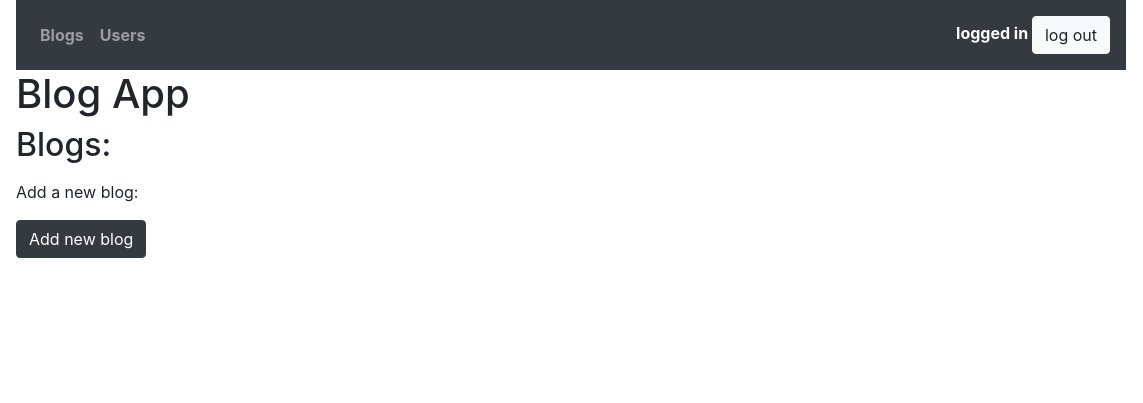
Test: Blog app › When logged in › A blog can be created
This screenshot has width=1143, height=403.
Click the button "Add new blog" at (81, 239), box top-left (16, 220), bottom-right (146, 258)
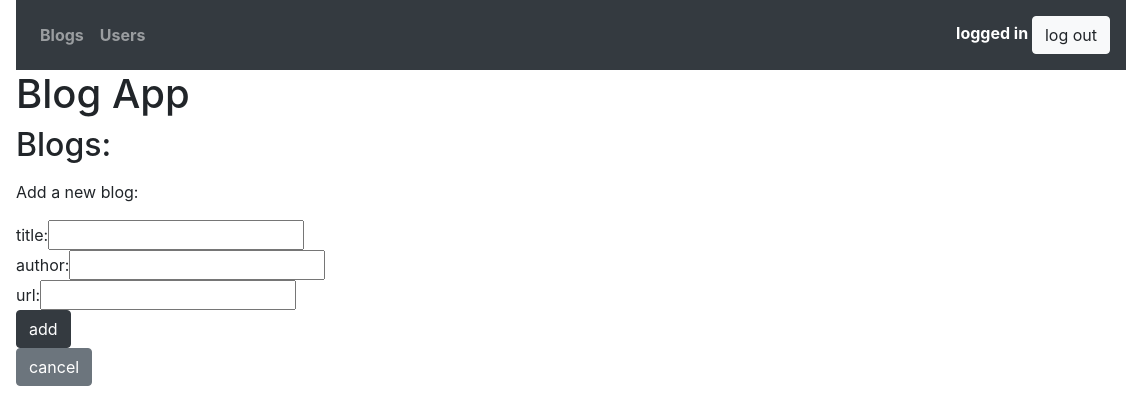
Type "title1" into the field with id "title" at (176, 235), box top-left (48, 220), bottom-right (304, 250)
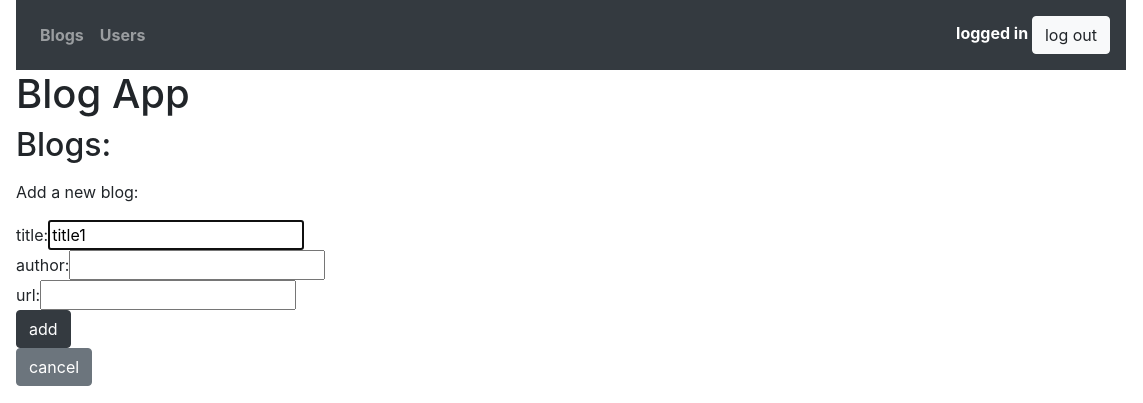
Type "author1" into the field with id "author" at (197, 265), box top-left (69, 250), bottom-right (325, 280)
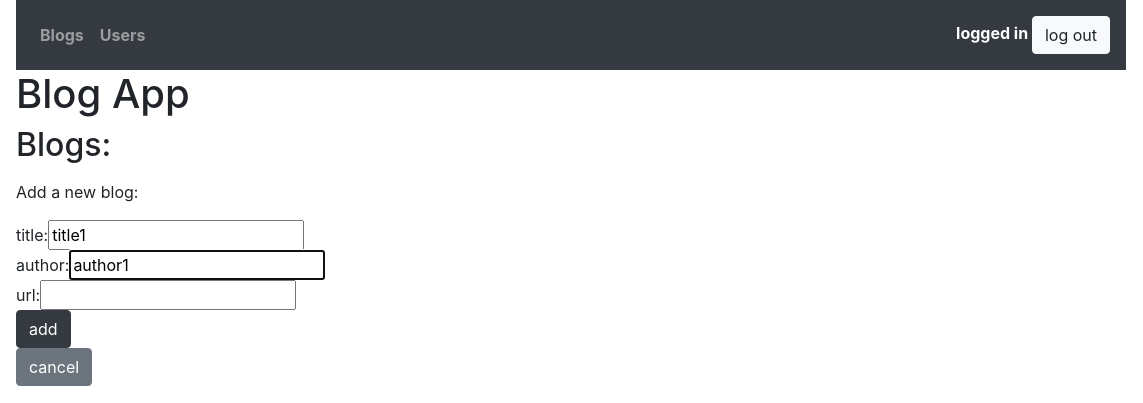
Type "url1" into the field with id "url" at (168, 295), box top-left (40, 280), bottom-right (296, 310)
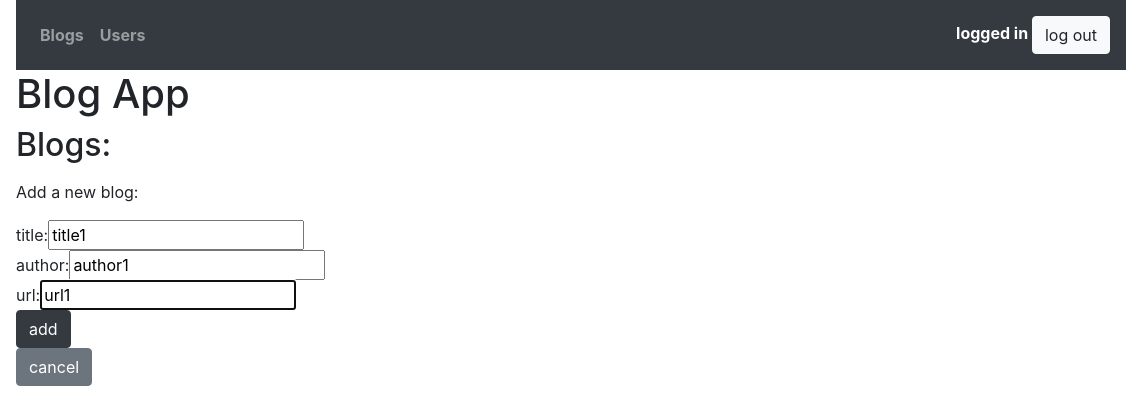
Click the button with id "buttonAddBlog" at (44, 329), box top-left (16, 310), bottom-right (71, 348)
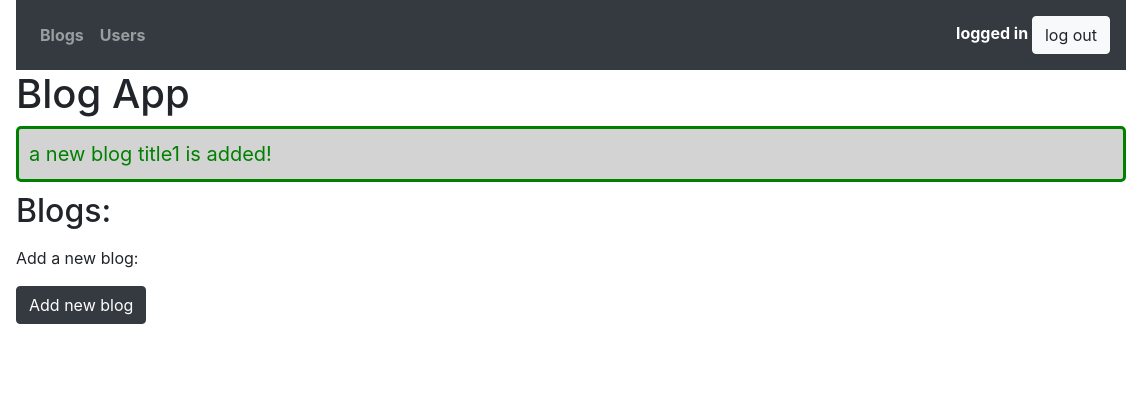
Now the text "title1" is shown, box top-left (29, 142), bottom-right (272, 166)
